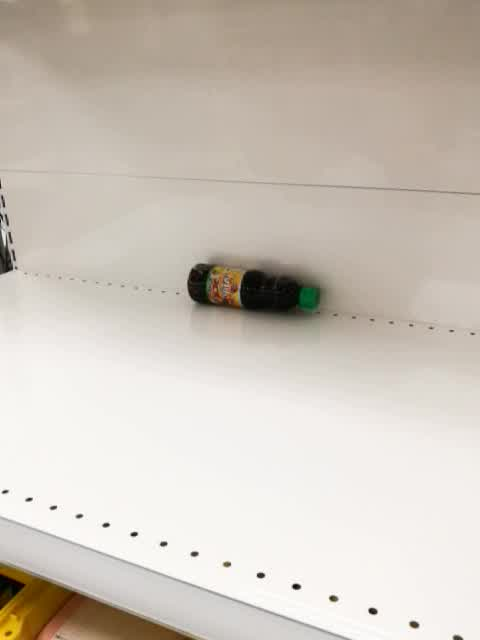cookingoil: (183, 257, 321, 316)
